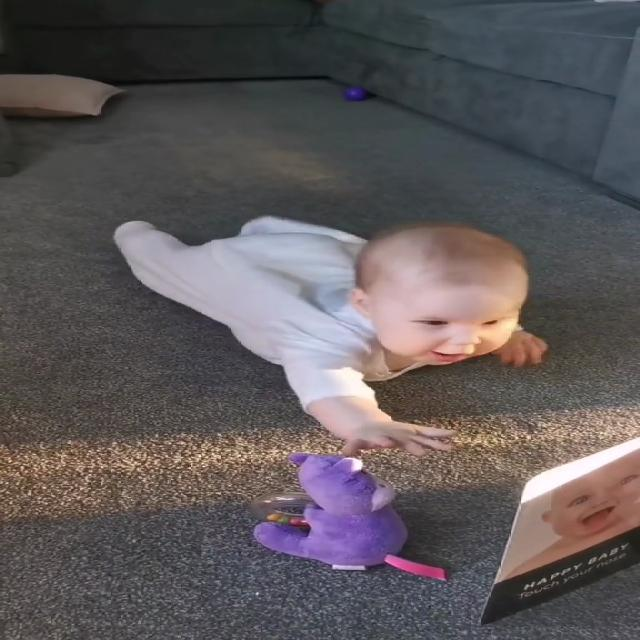baby: (94, 190, 615, 462)
